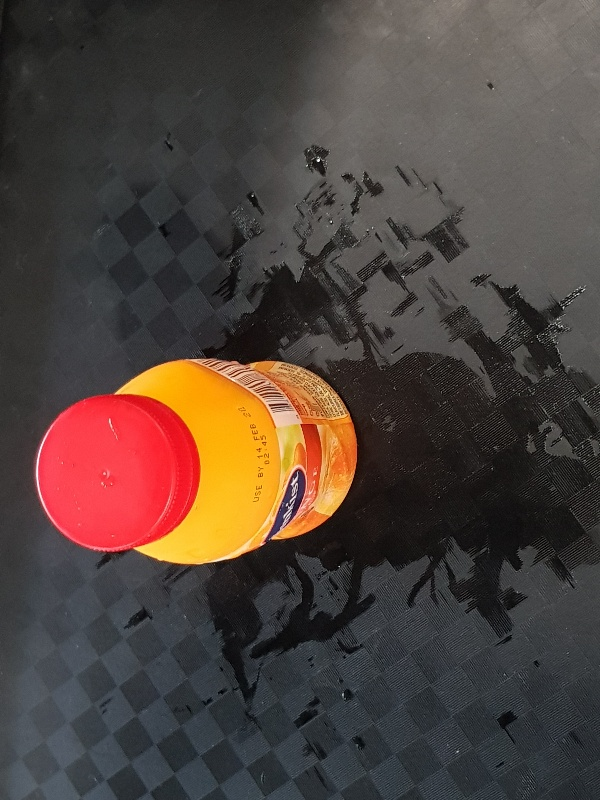Sunkist Orange Juice Drink: (34, 354, 360, 567)
